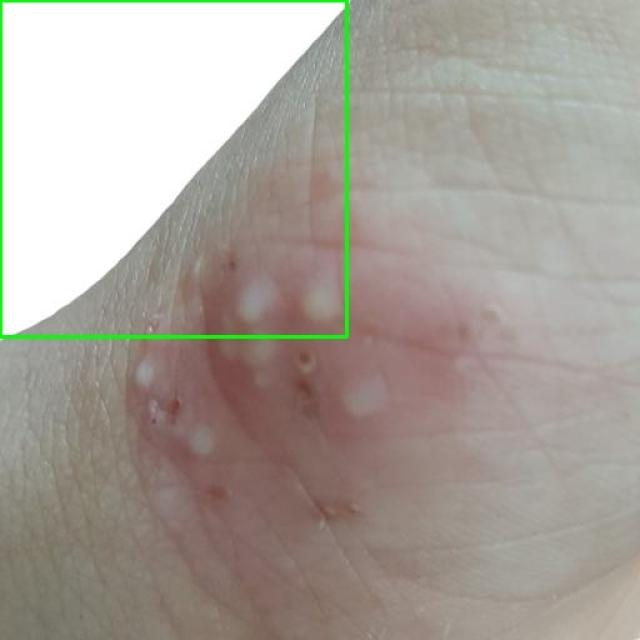Scabies: (0, 0, 346, 336)
